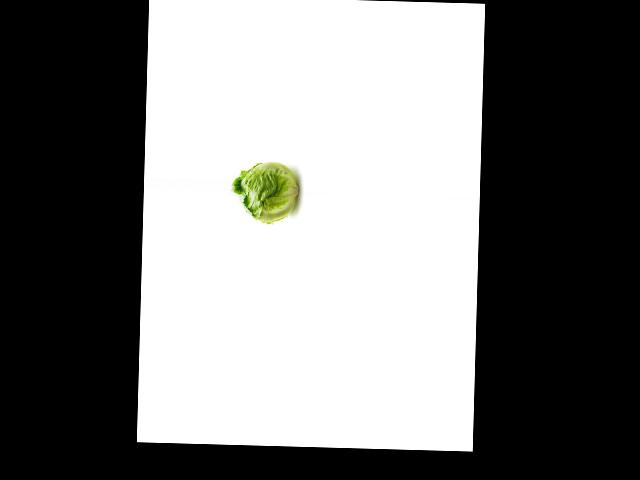lettuce: (230, 158, 302, 230)
